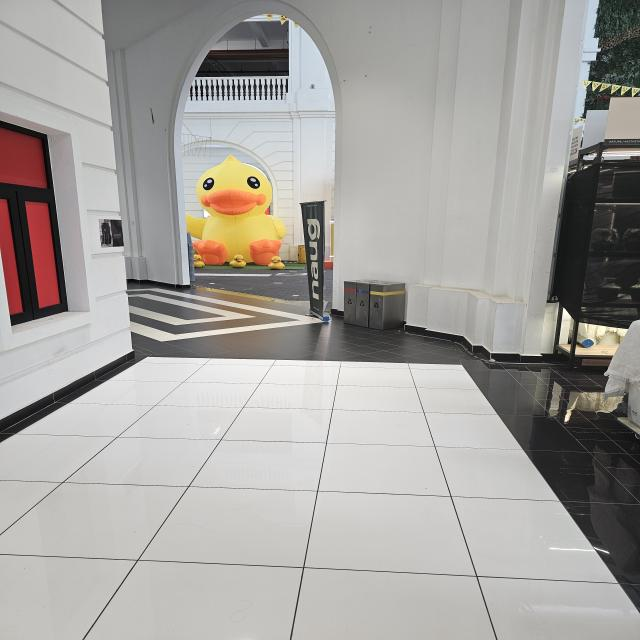footpath: (89, 347, 546, 638), (138, 290, 280, 348)
obstacle: (548, 127, 640, 445), (189, 154, 294, 270), (297, 197, 334, 327), (342, 278, 406, 330)
